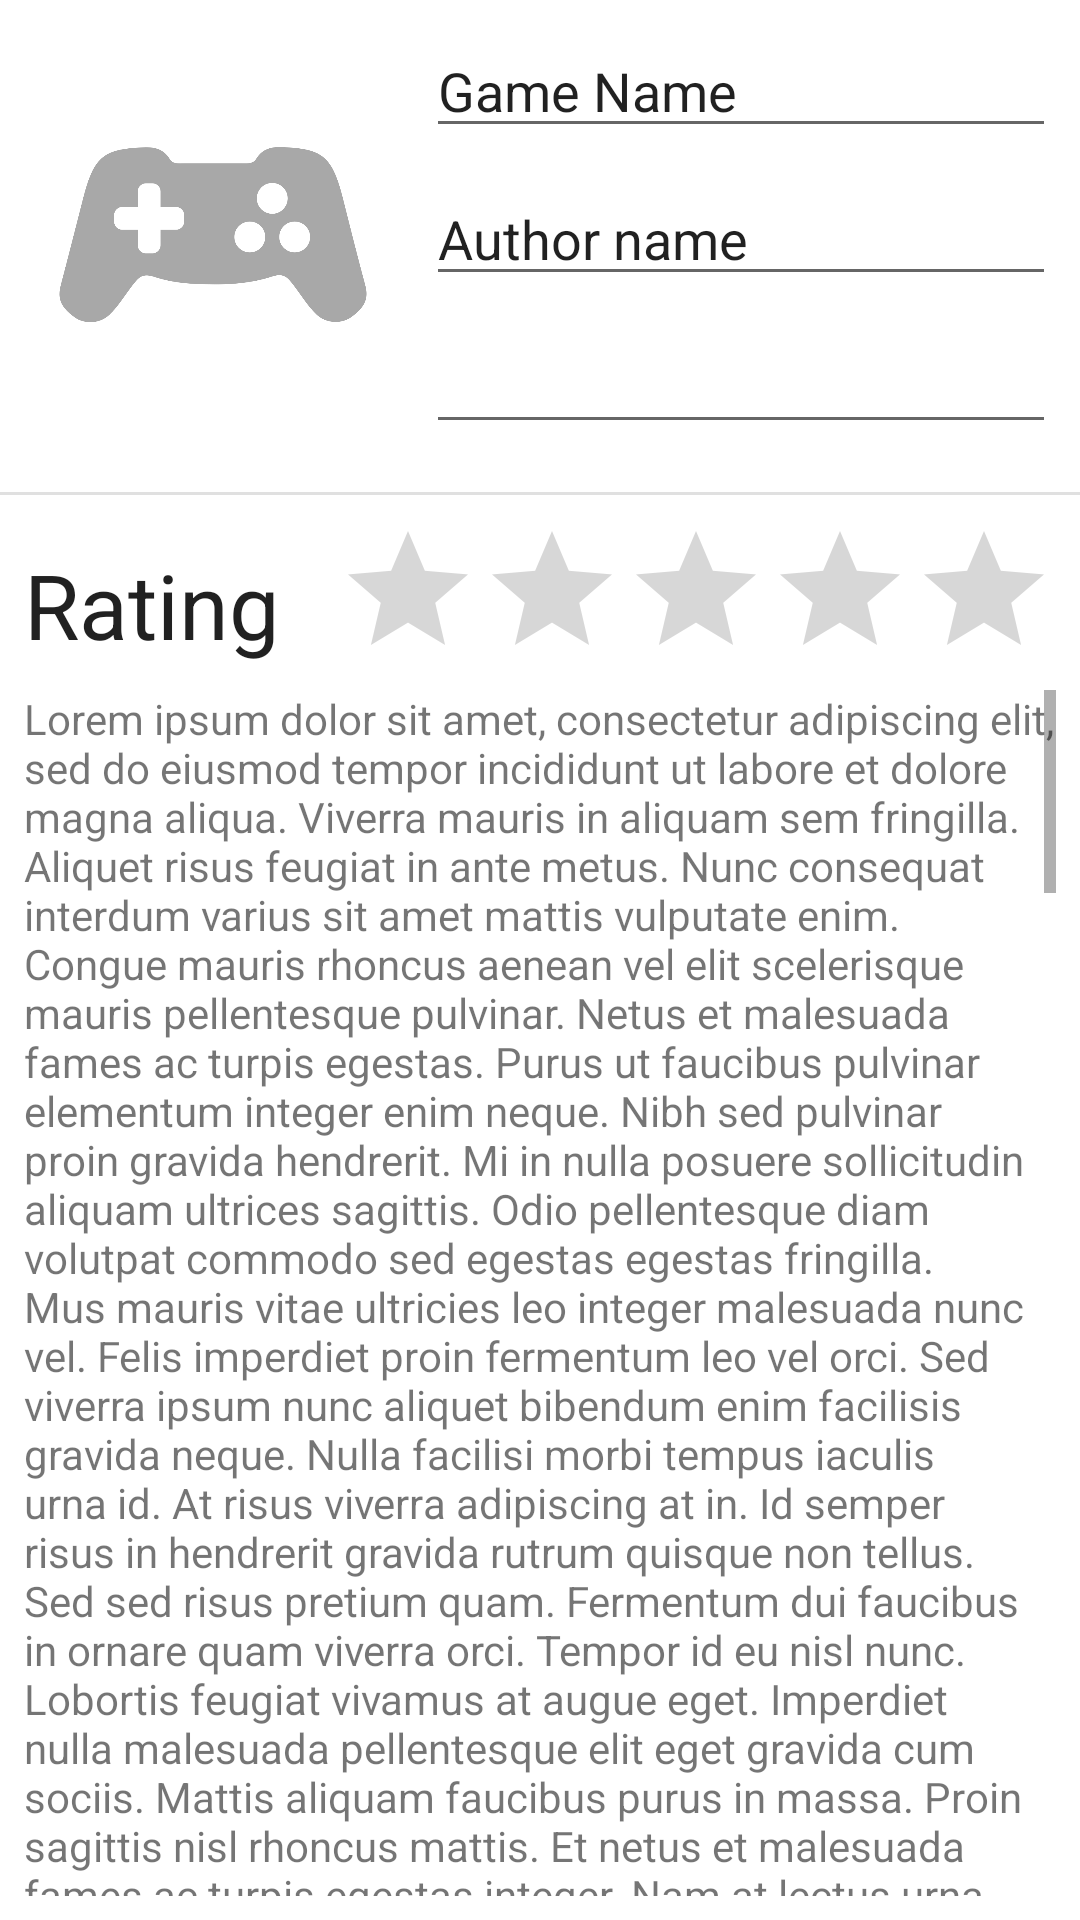

Icon bounding boxes for this 1080x1920 phone screenshot, format box(x1, y1, x2, y2):
controller: box(59, 147, 367, 322)
